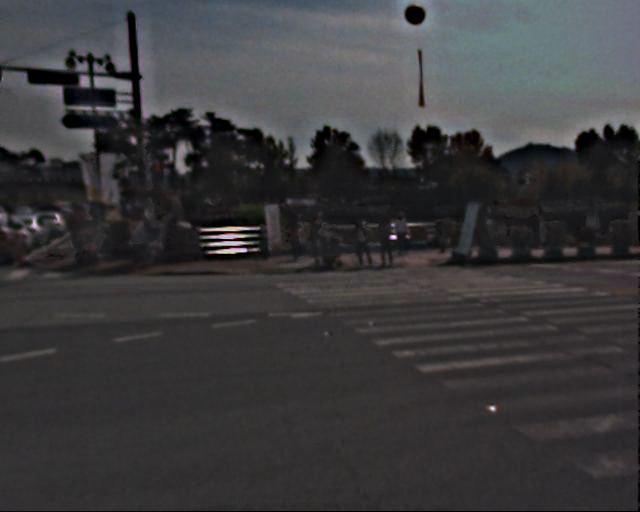person: (65, 201, 108, 268), (123, 210, 159, 267), (307, 210, 332, 271), (288, 212, 309, 264), (376, 215, 397, 267), (393, 209, 414, 259), (353, 220, 373, 269)
